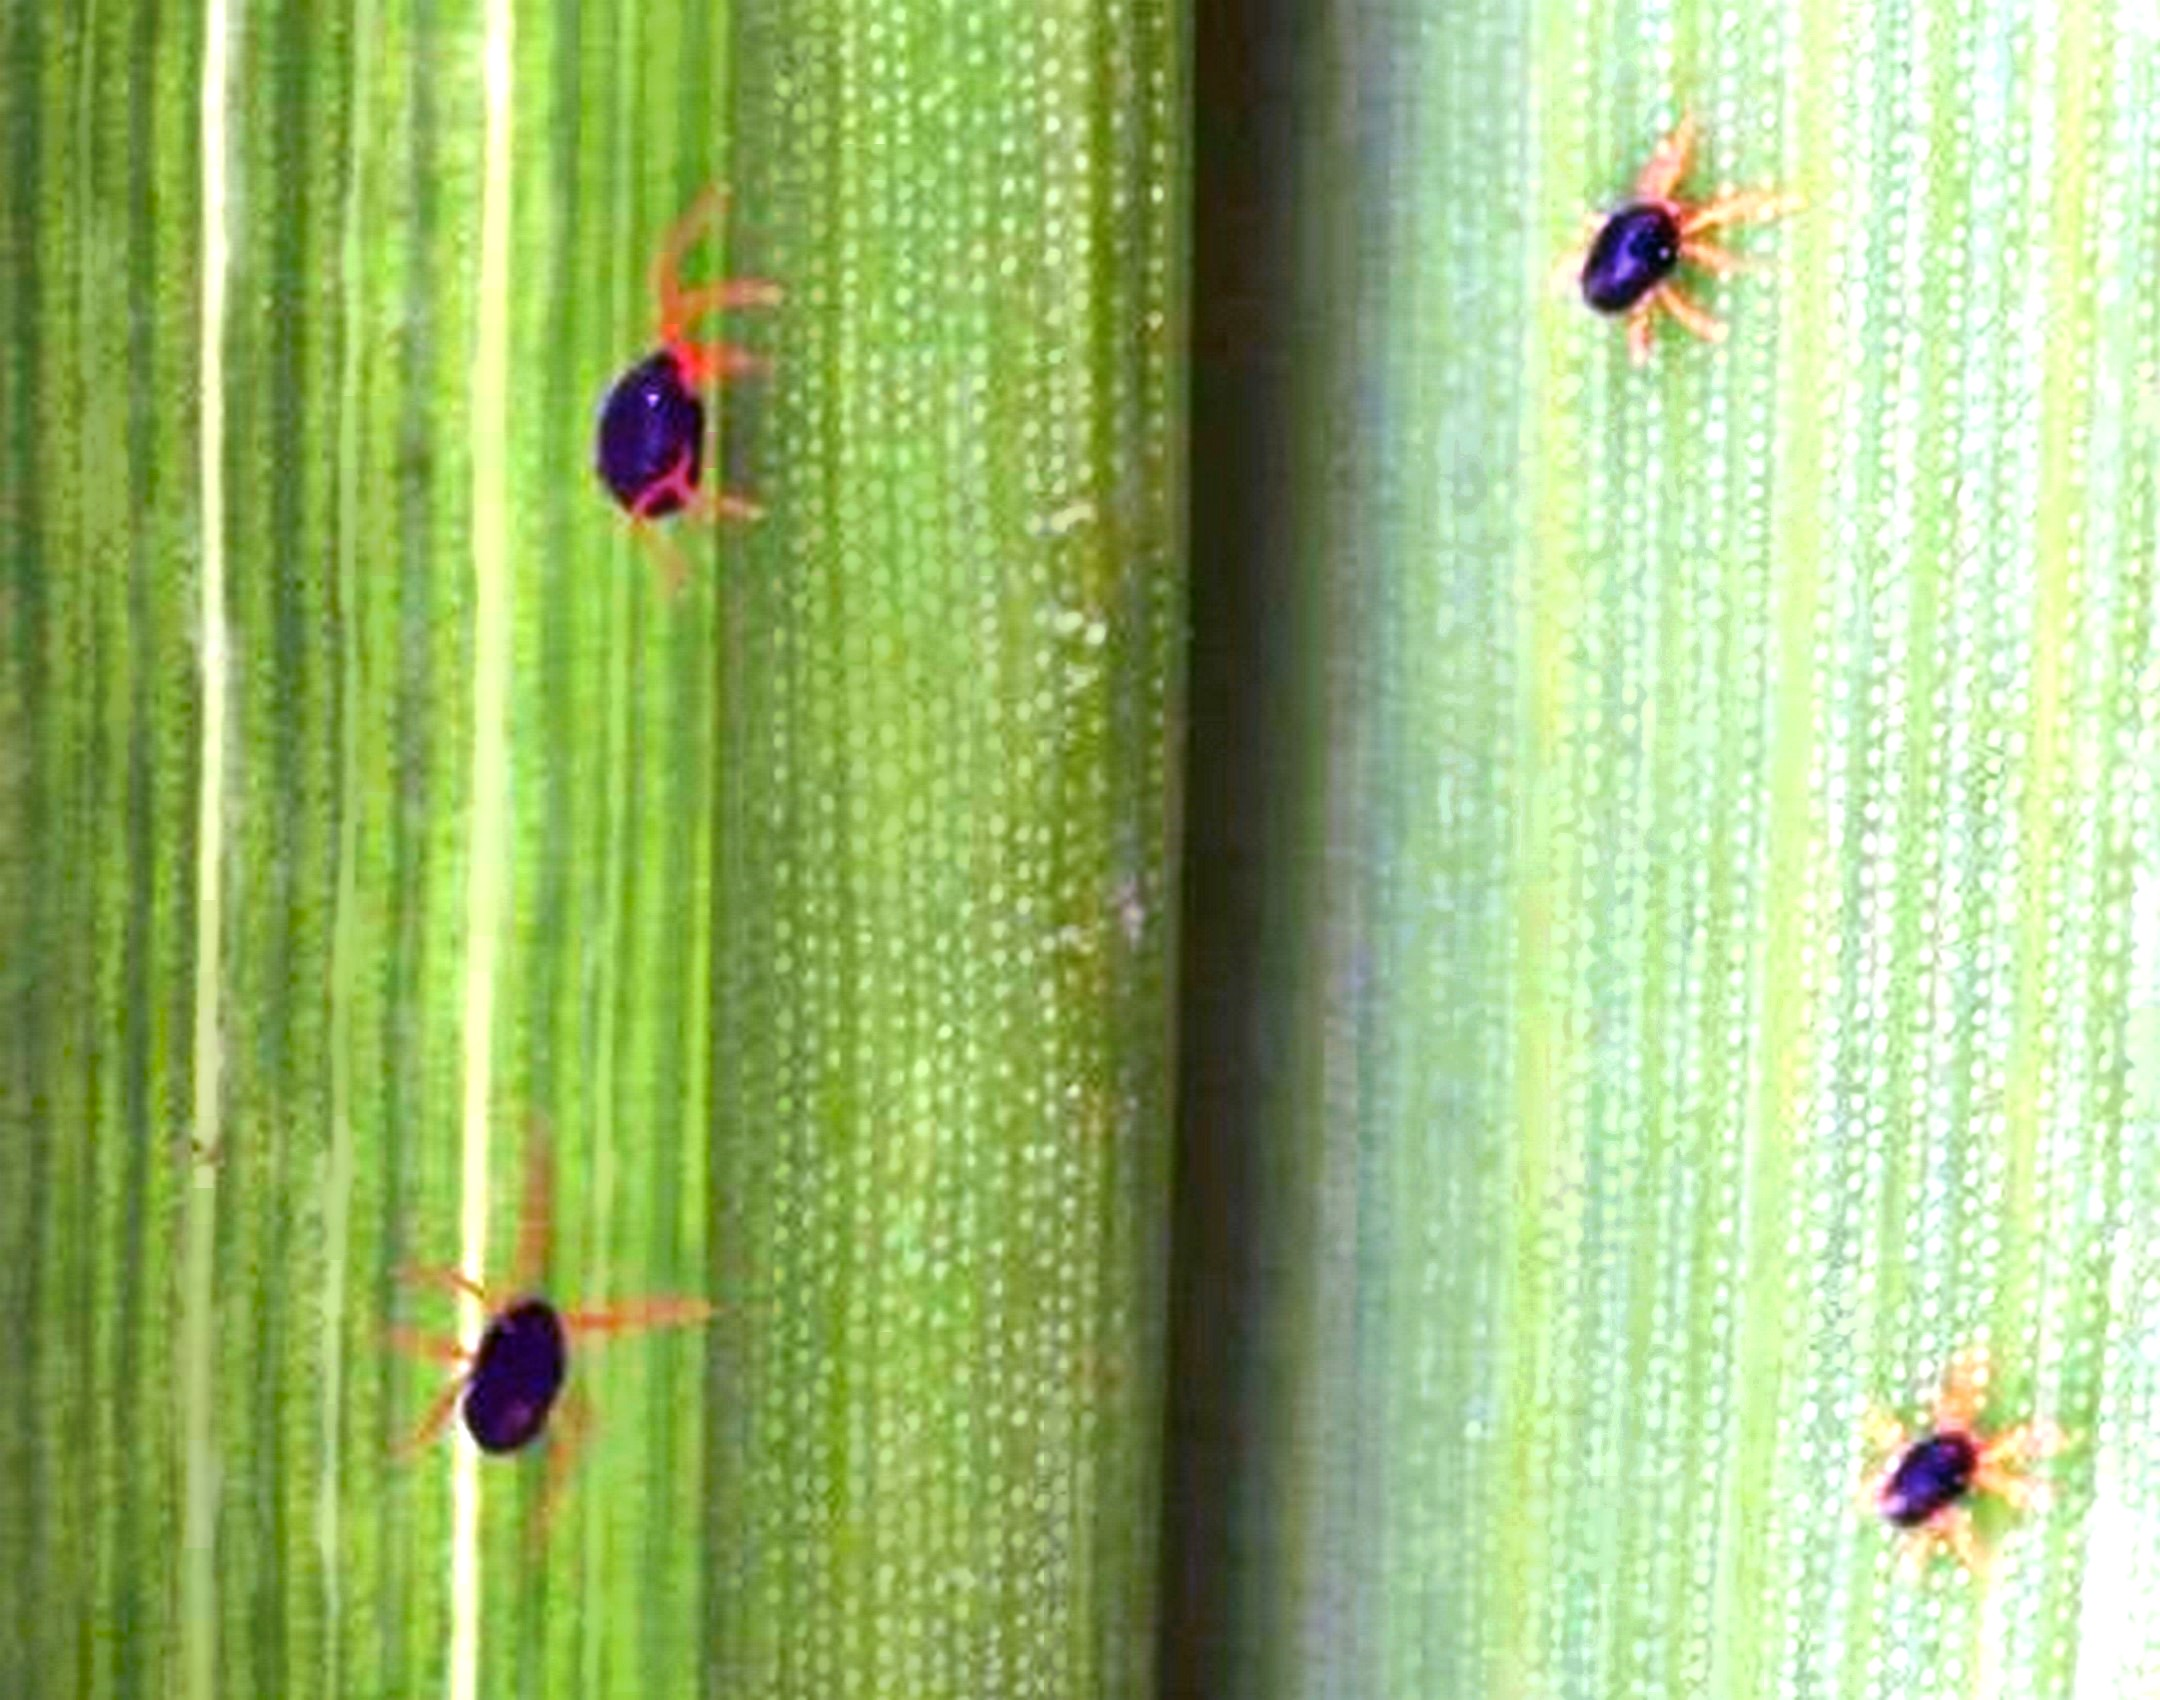Wheat Red Spider: (319, 1078, 724, 1604), (1532, 79, 1825, 408)
